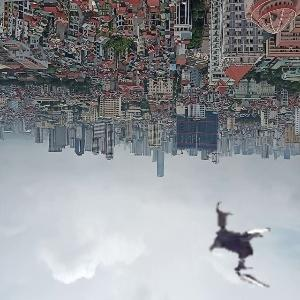drone: (193, 198, 284, 289)
